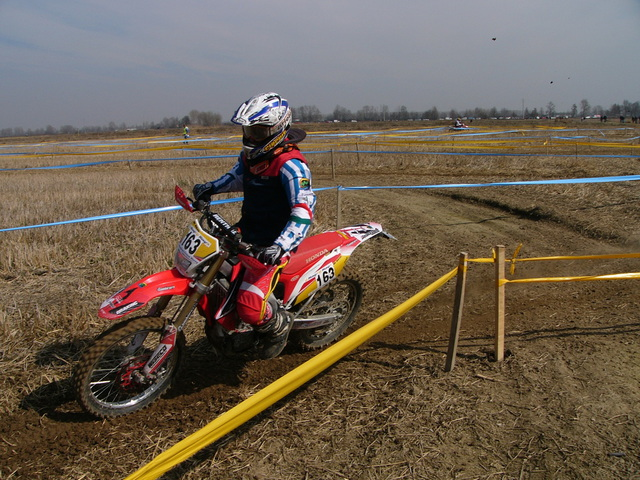helmet: (234, 84, 298, 156)
